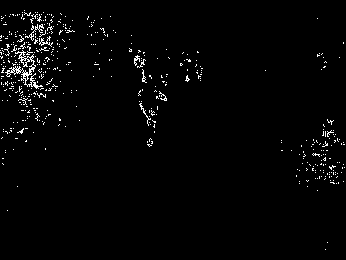person: (137, 74, 165, 150)
